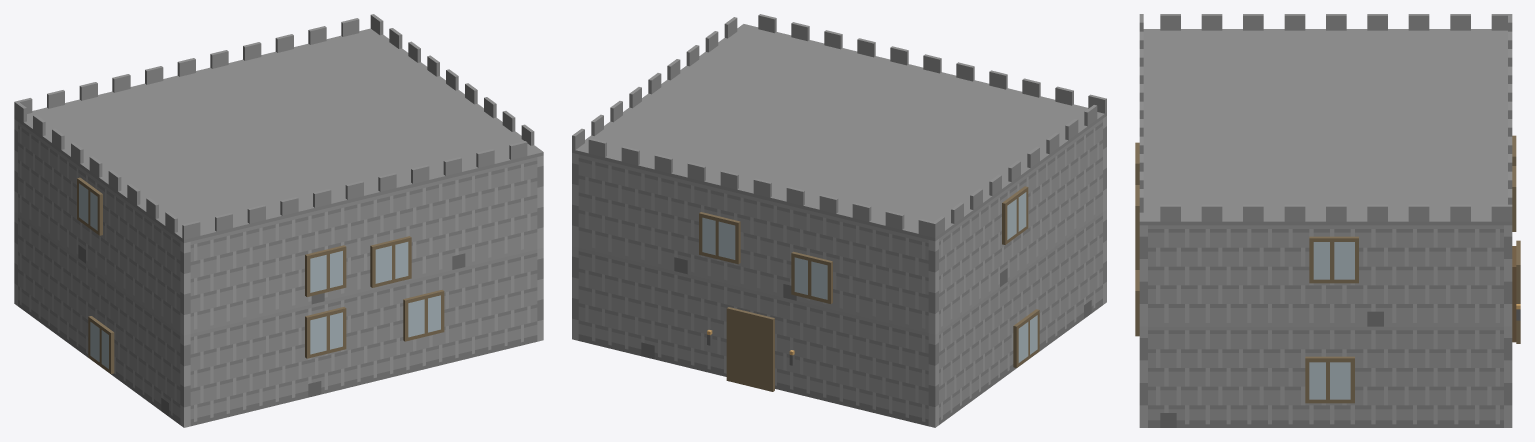
Rendered from cuartel_guardia_01.glb.
3 renders of one model, left to right at view 1: azimuth 30°, elevation 25°; view 2: azimuth 150°, elevation 25°; view 3: azimuth 270°, elevation 25°, orthographic. The views are drawn at different scales.
Parts seen in each view (by area): view 1: cuartel_guardia_01; view 2: cuartel_guardia_01; view 3: cuartel_guardia_01.
Part boxes in pixels (left/top/right/bottom): cuartel_guardia_01: left=14, top=14, right=543, bottom=427; cuartel_guardia_01: left=572, top=14, right=1106, bottom=427; cuartel_guardia_01: left=1135, top=14, right=1520, bottom=427.
Bounding box in the file's own units: 11.2 × 5.9 × 9.3.
